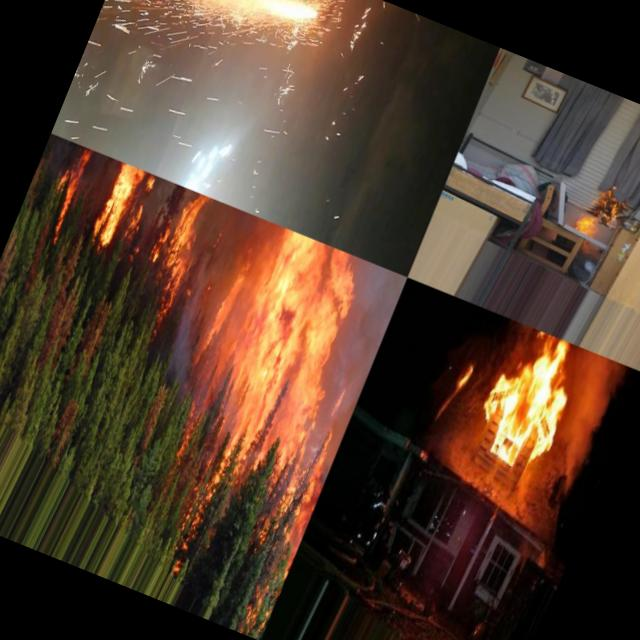fire: (162, 214, 384, 486), (54, 0, 231, 169), (469, 322, 589, 472), (252, 436, 340, 606), (143, 185, 214, 288), (81, 159, 156, 256), (574, 182, 626, 244), (451, 357, 477, 393)
smoke: (536, 350, 630, 500), (150, 246, 230, 386)
